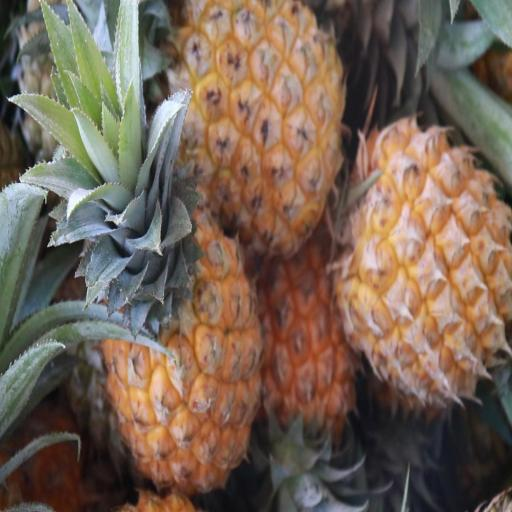Pineapple - v8 v1: (102, 136, 260, 498), (337, 110, 512, 415), (175, 0, 345, 251), (262, 236, 372, 482)
